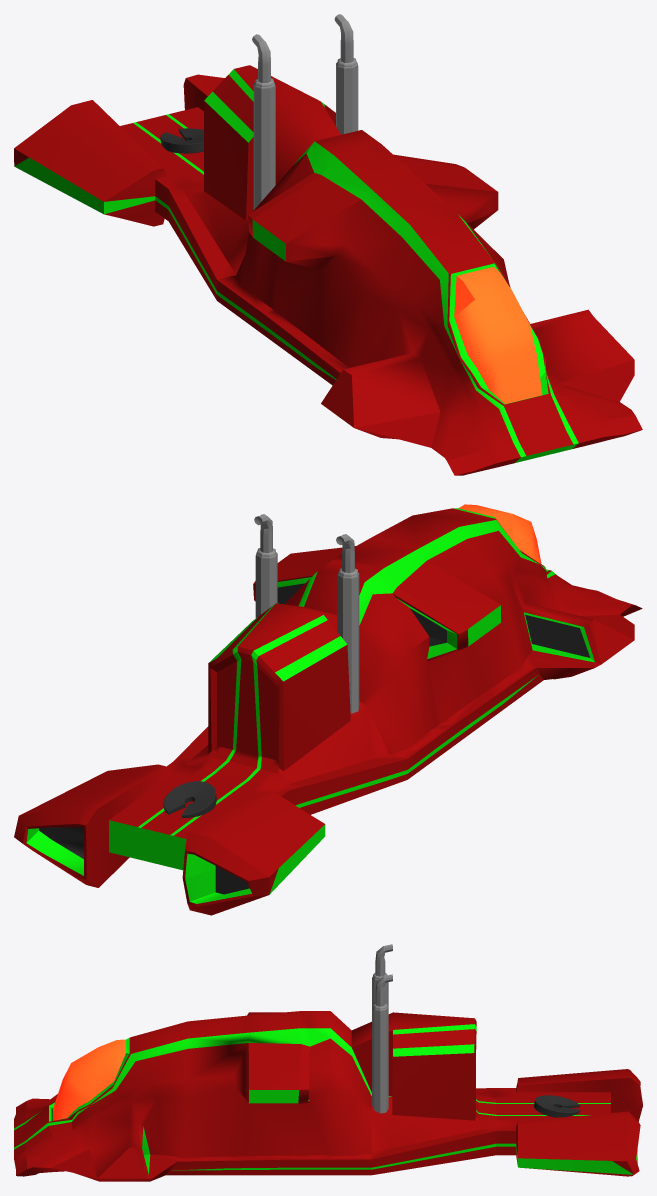
File: truckFinal.fbx
3 renders of one model, top to bottom at view 1: azimuth 30°, elevation 25°; view 2: azimuth 150°, elevation 25°; view 3: azimuth 270°, elevation 25°, orthographic. The views are drawn at different scales.
Parts seen in each view (by area): view 1: truck; view 2: truck; view 3: truck.
Part boxes in pixels (x1,y1,x2,y2): truck: [14, 14, 642, 475]; truck: [14, 504, 642, 915]; truck: [14, 944, 642, 1181].
Bounding box in the file's own units: 2.32 × 2.06 × 6.02.
